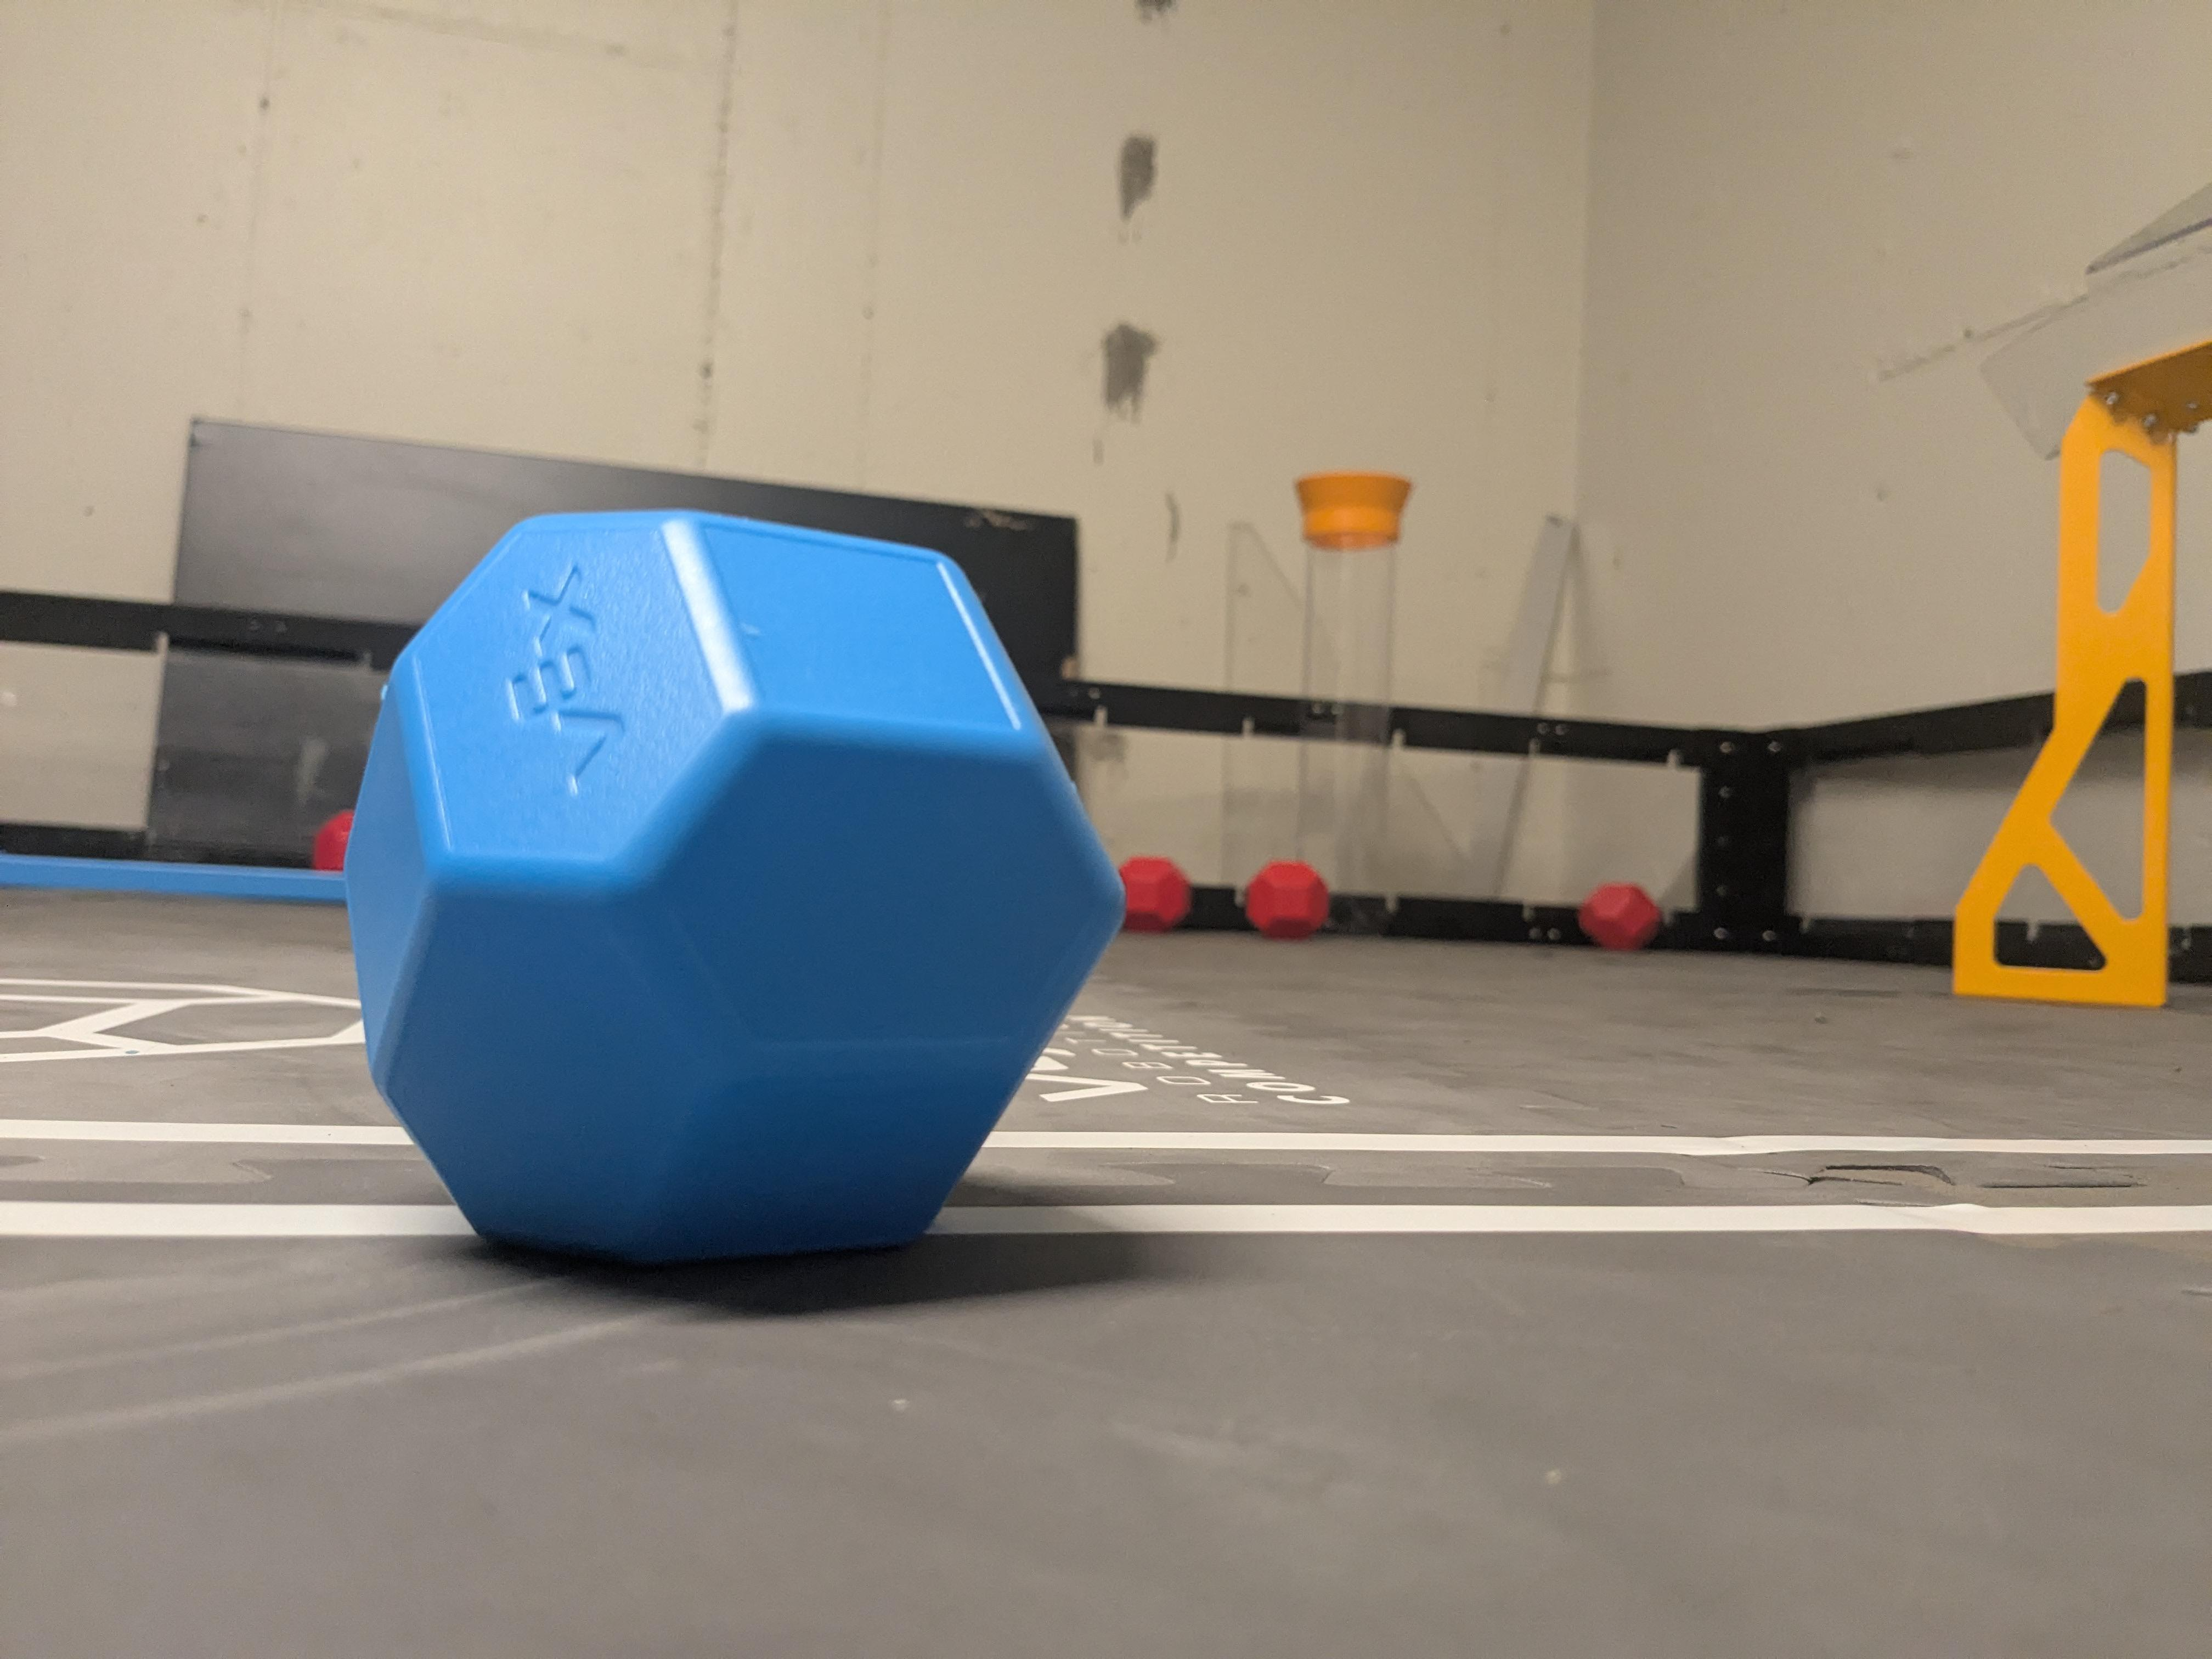Vex-Pieces-BLUE: (343, 509, 1123, 1260)
